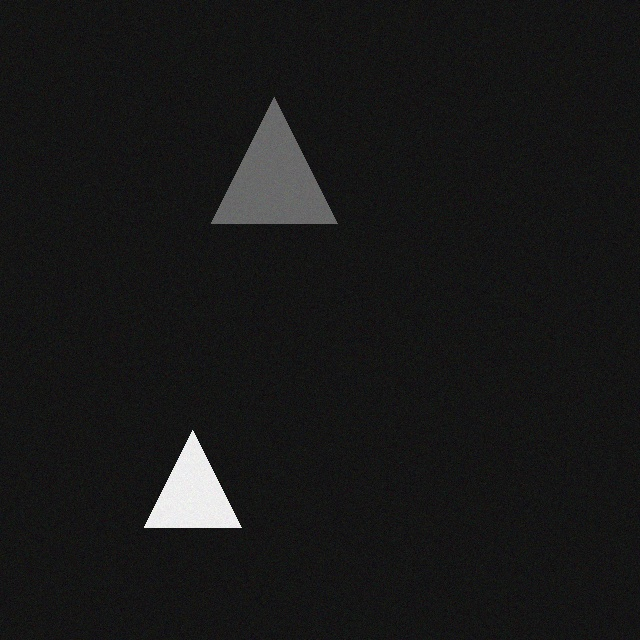triangle: (222, 88, 348, 214), (155, 421, 252, 518)
